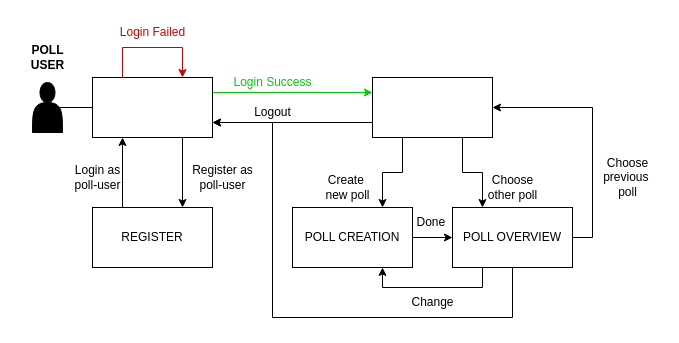
Image size: 679x343. Some labels were removed from this diagram. The shapes that lost their labels are listed below. From the top down, each one's centre as x and y in pixels, then its label:
[152,107]: LOGIN SCREEN
[432,107]: POLL ACTION
